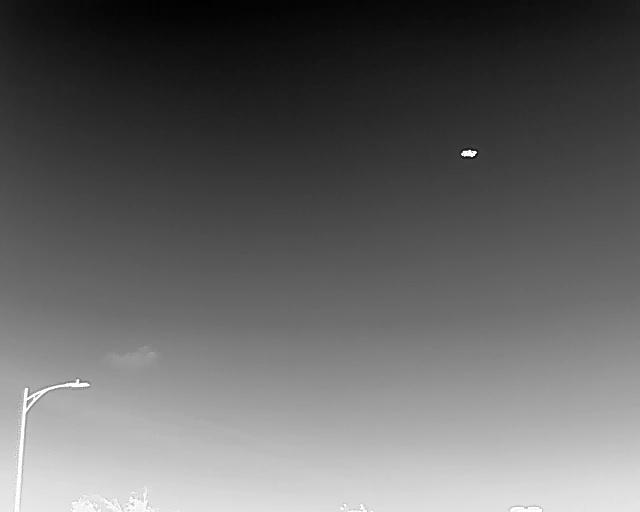fpv-drone: (460, 148, 478, 159)
